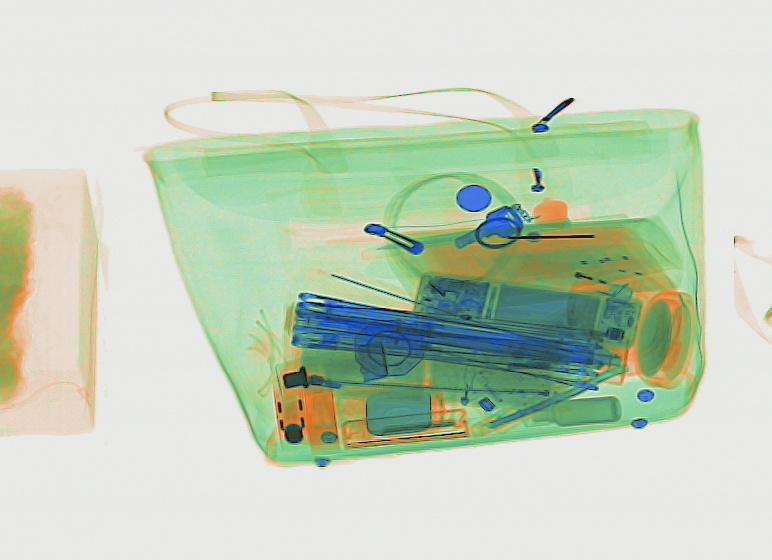lighter: (519, 259, 635, 305)
